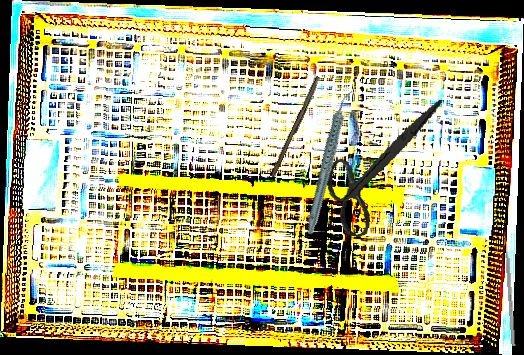Handpiece: (278, 88, 382, 237)
Iris Scissors: (318, 84, 444, 247)
Pusher: (503, 227, 516, 347)
Scalpel Handle: (269, 75, 323, 179)
